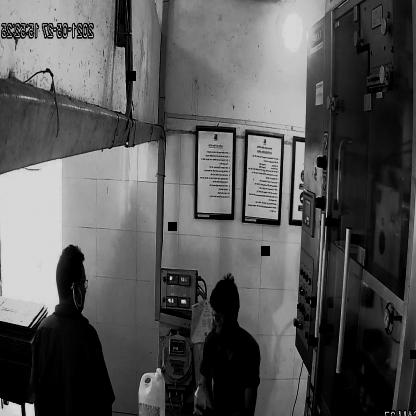goggles: (208, 308, 236, 330)
